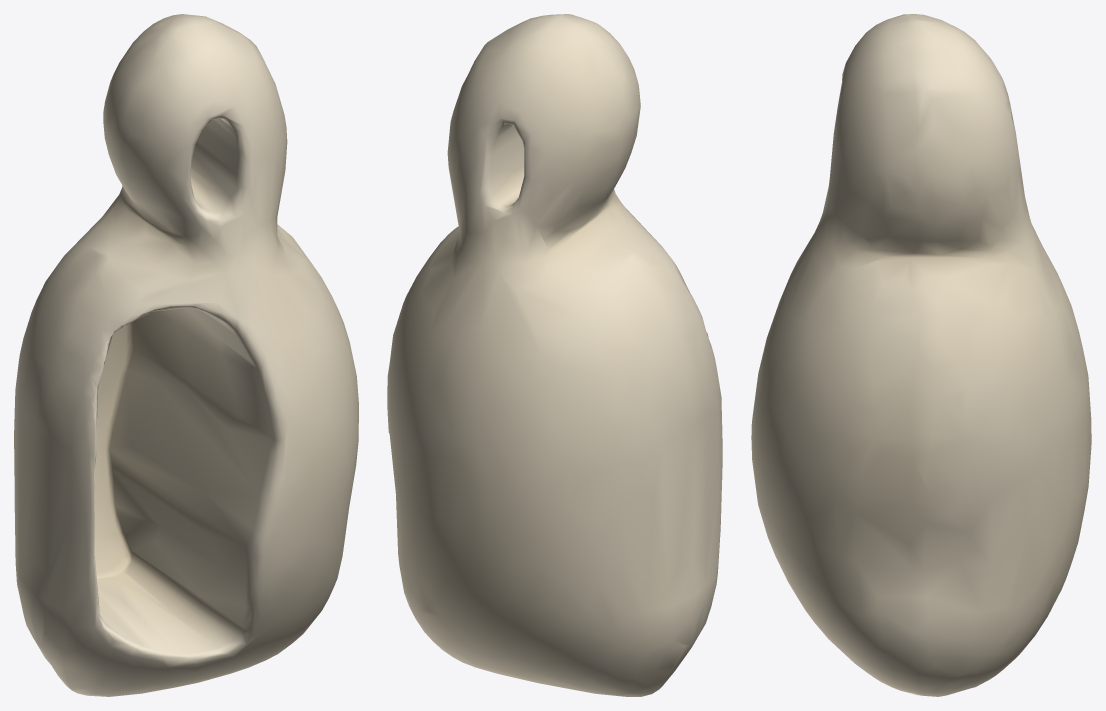
The model's file is lumen_strelec_bila.glb.
The picture shows the model from 3 angles, left to right: view 1: azimuth 30°, elevation 25°; view 2: azimuth 150°, elevation 25°; view 3: azimuth 270°, elevation 25°; orthographic projection.
Parts seen in each view (by area): view 1: Lumen strelec bila; view 2: Lumen strelec bila; view 3: Lumen strelec bila.
Boxes of the visible parts, left/top/right/bottom form: Lumen strelec bila: left=14, top=14, right=358, bottom=696; Lumen strelec bila: left=387, top=14, right=722, bottom=696; Lumen strelec bila: left=751, top=14, right=1091, bottom=696.
Bounding box in the file's own units: 0.0329 × 0.0688 × 0.033.
